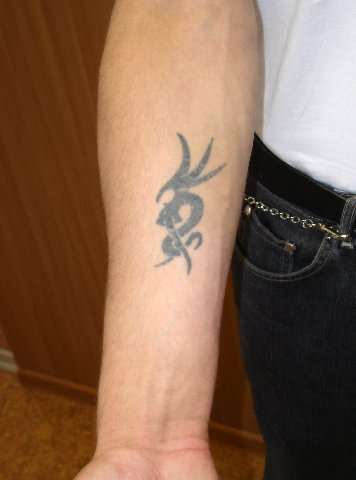tatu6_drakon: (153, 121, 225, 281)
